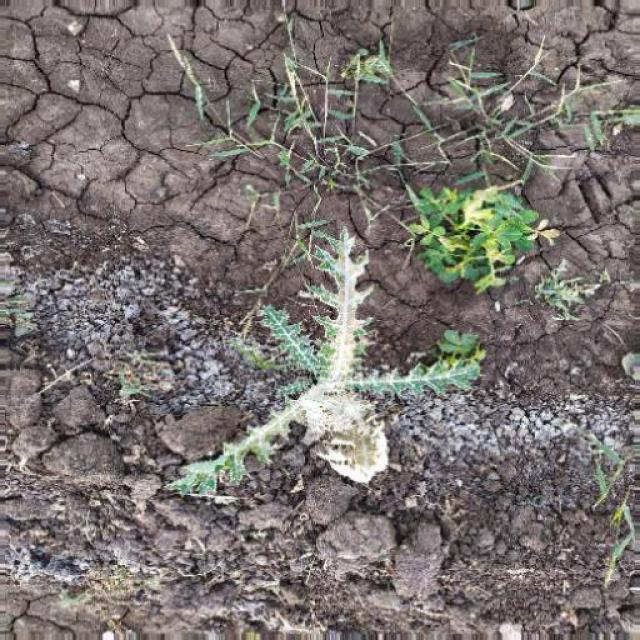weed: (174, 231, 495, 541), (162, 31, 608, 225), (385, 149, 554, 310)
